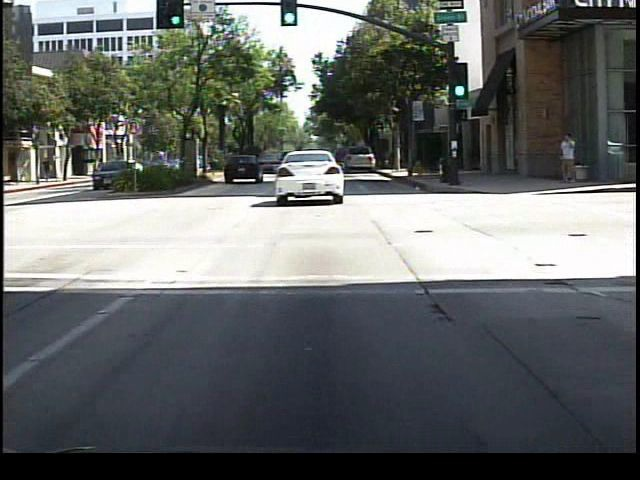person: (555, 133, 579, 189), (40, 155, 55, 190)
